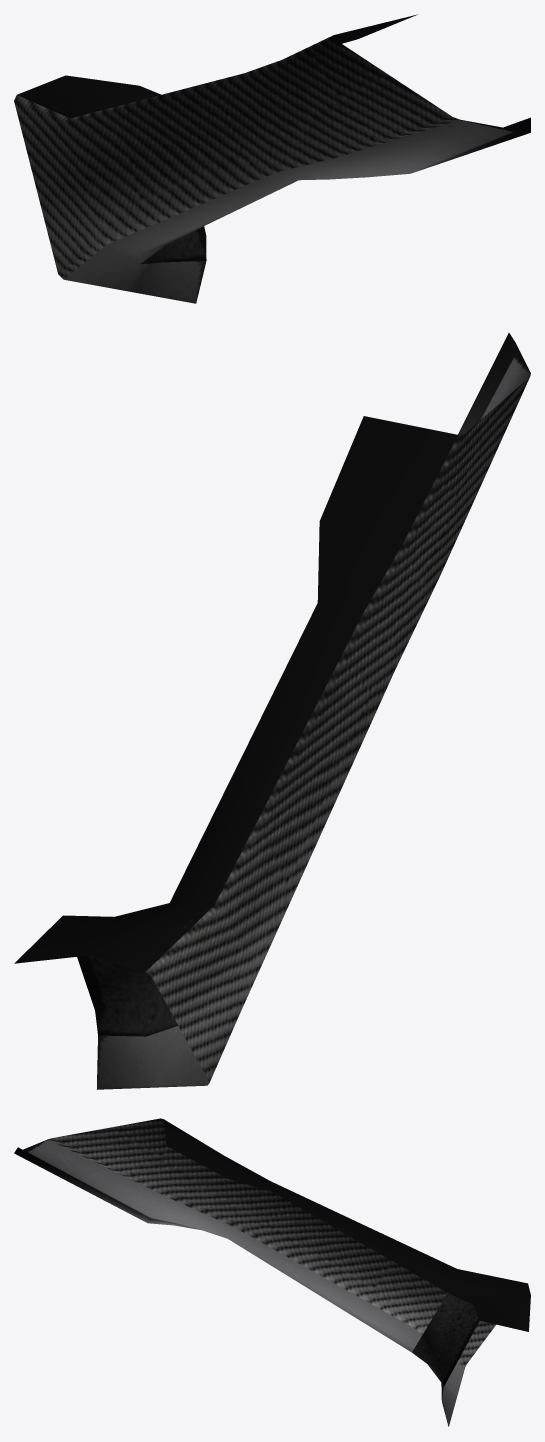
File: neimenbashou001.FBX
3 views of the same model, one above another, from view 1: azimuth 30°, elevation 25°; view 2: azimuth 150°, elevation 25°; view 3: azimuth 270°, elevation 25° (orthographic). The views are drawn at different scales.
Visible parts, largest first — view 1: neimenbashou001; view 2: neimenbashou001; view 3: neimenbashou001.
Boxes of the visible parts, x1,y1,x2,y2 form: neimenbashou001: (14, 14, 530, 303); neimenbashou001: (14, 333, 530, 1089); neimenbashou001: (14, 1118, 530, 1426).
Size of the model in its own units: 32.85 by 110 by 186.
